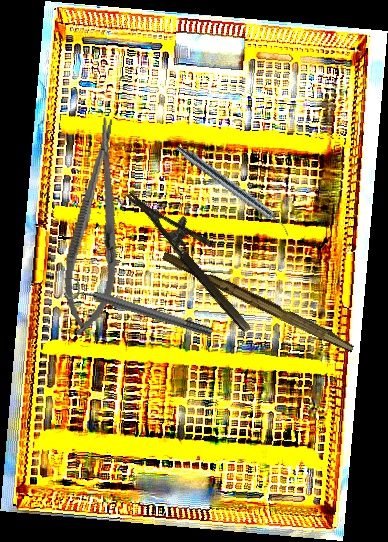Fixation Ring: (63, 275, 215, 345)
Handpiece: (171, 142, 296, 237)
Needle Holder: (125, 172, 270, 335), (56, 114, 136, 340)
Scalpel Handle: (159, 250, 358, 353)
